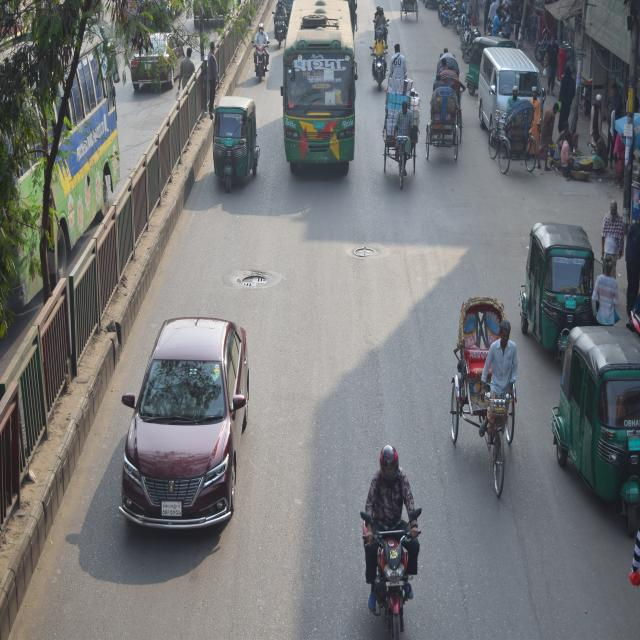bus: (0, 28, 120, 230), (290, 0, 352, 163)
car: (108, 314, 265, 534), (130, 22, 182, 86)
microbus: (480, 46, 538, 134)
motorbike: (352, 486, 433, 640), (246, 30, 270, 90), (371, 44, 389, 92), (271, 8, 287, 54), (373, 17, 386, 48)
